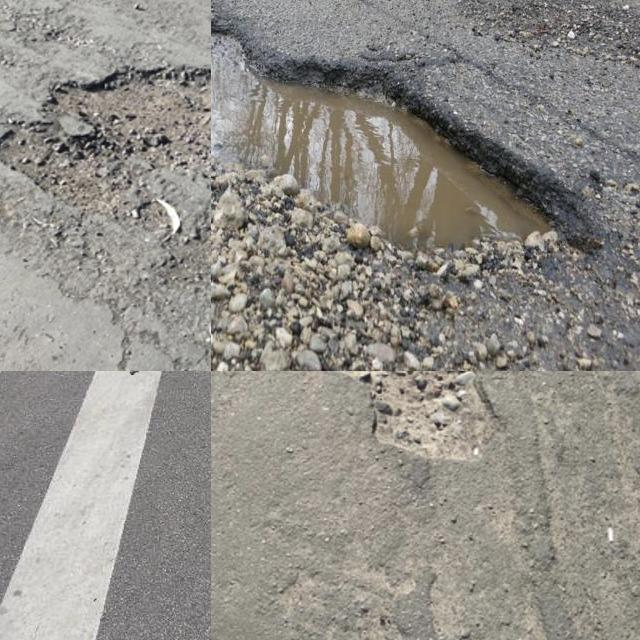Lubang: (211, 23, 583, 265), (7, 59, 211, 280), (344, 371, 508, 467)
